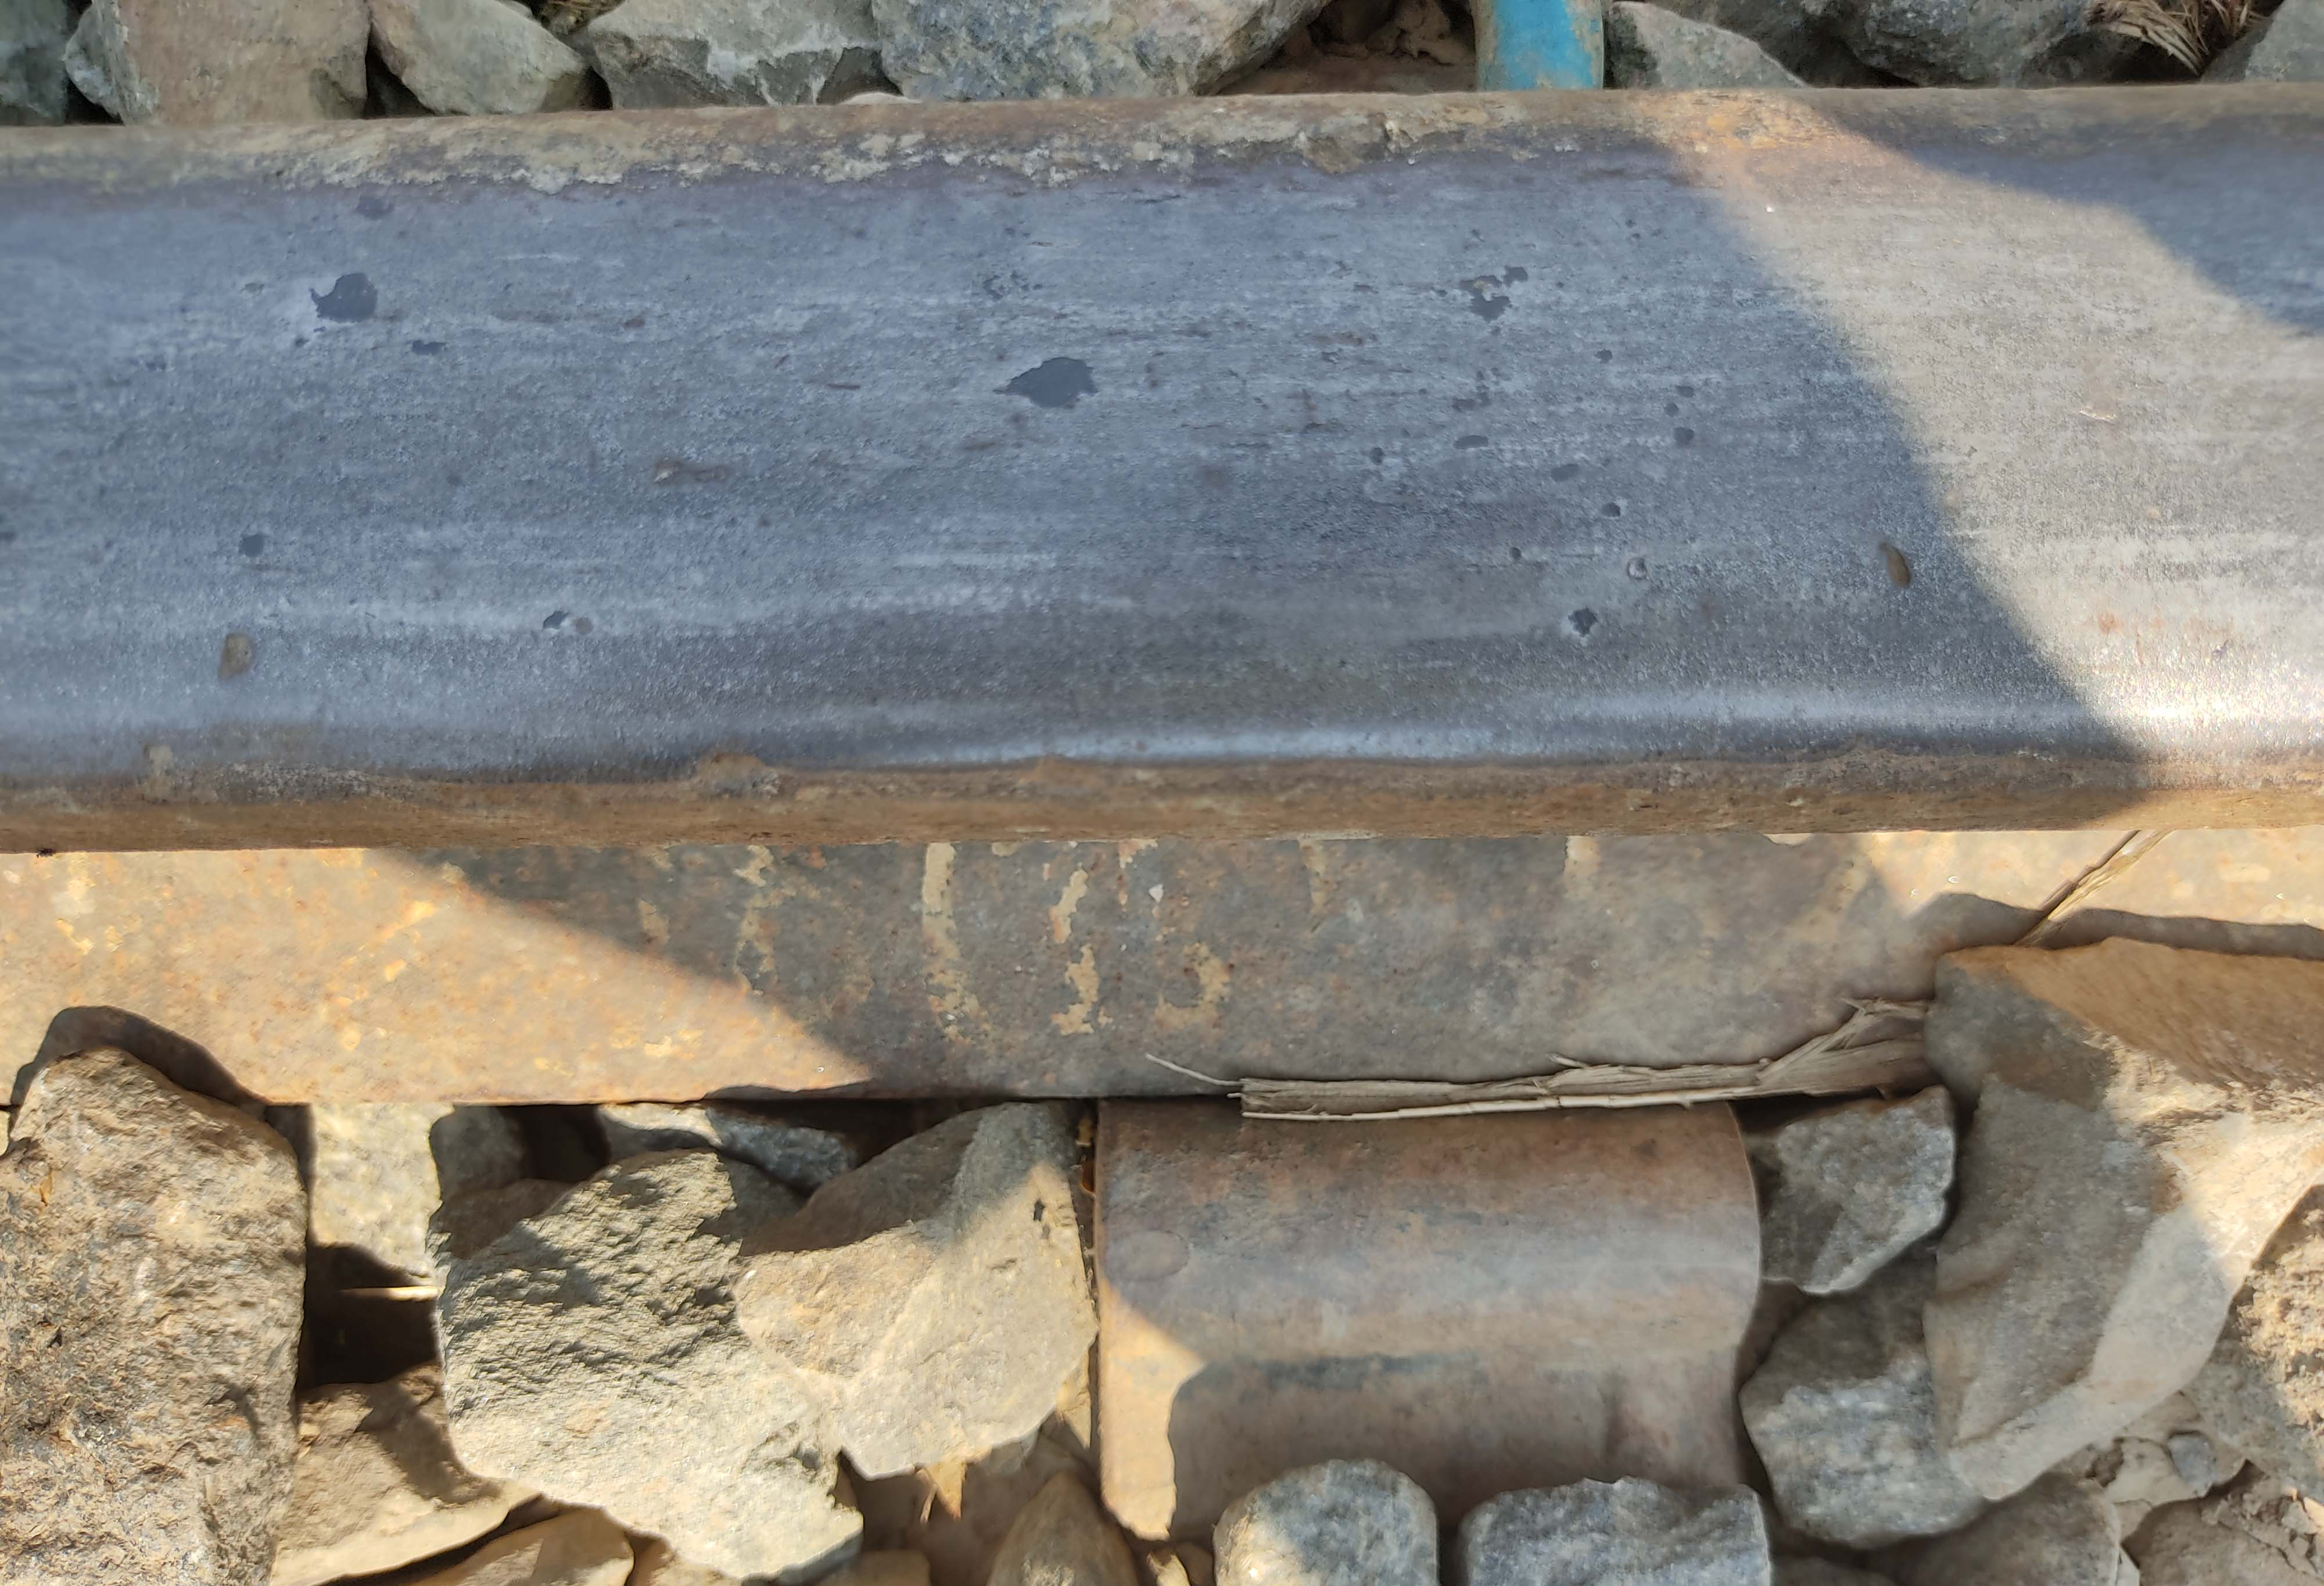error1: (1063, 1037, 1789, 1524)
